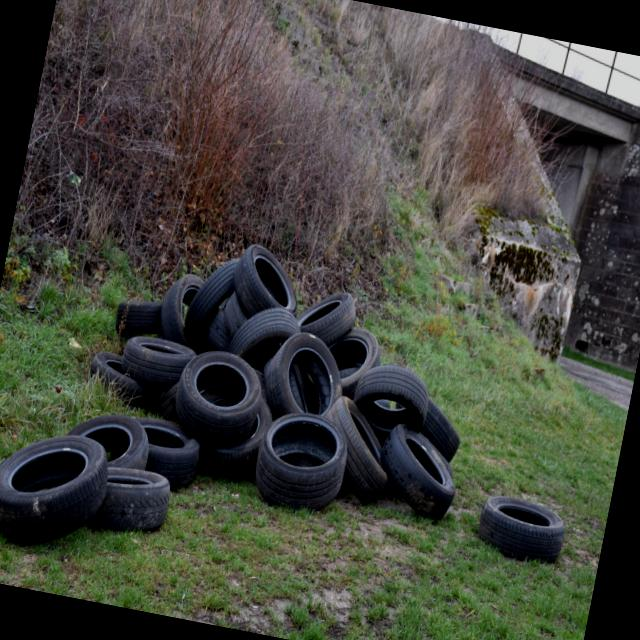garbage: (0, 177, 601, 640)
